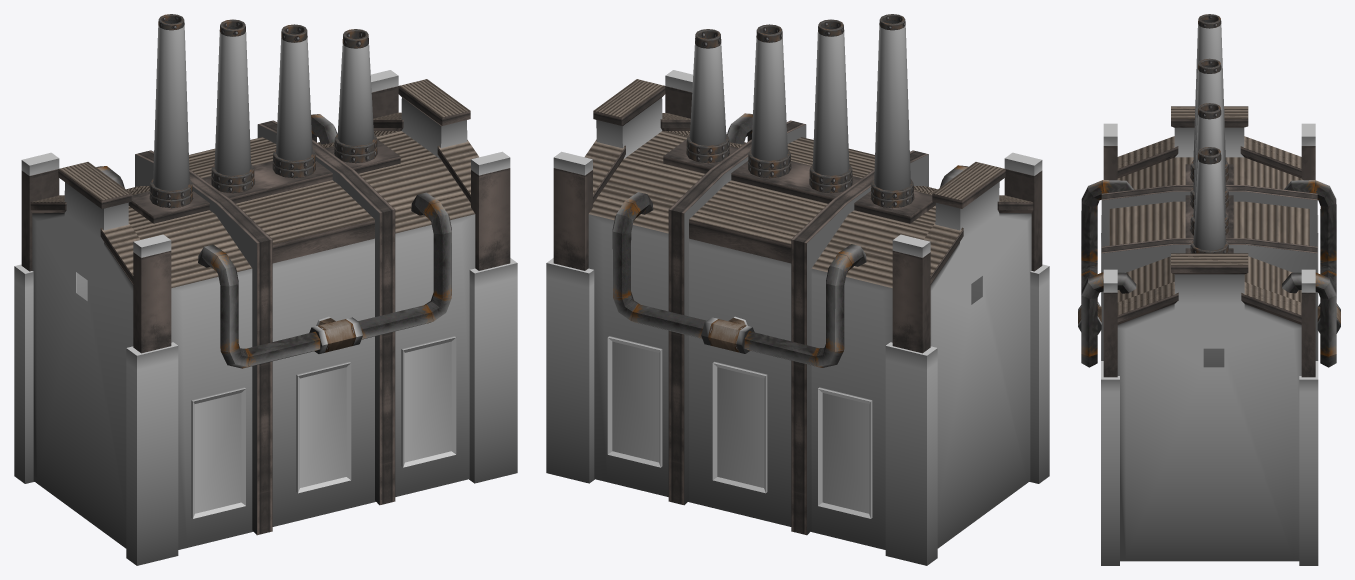
Rendered from factory_pipe_room_exterior.fbx.
3 views of the same model, side by side, from view 1: azimuth 30°, elevation 25°; view 2: azimuth 150°, elevation 25°; view 3: azimuth 270°, elevation 25° (orthographic). The views are drawn at different scales.
Parts seen in each view (by area): view 1: Building, Smokestacks, Pipes; view 2: Building, Smokestacks, Pipes; view 3: Building, Pipes, Smokestacks.
Part boxes in pixels (box(x1,y1,x2,y2)): Building: box(14, 70, 517, 565); Smokestacks: box(149, 14, 377, 208); Pipes: box(96, 114, 451, 368); Building: box(546, 70, 1049, 565); Smokestacks: box(686, 14, 914, 208); Pipes: box(612, 113, 968, 367); Building: box(1101, 106, 1318, 565); Pipes: box(1078, 180, 1340, 367); Smokestacks: box(1190, 14, 1228, 253).
Bounding box in the file's own units: 8687 × 10433 × 5860.
